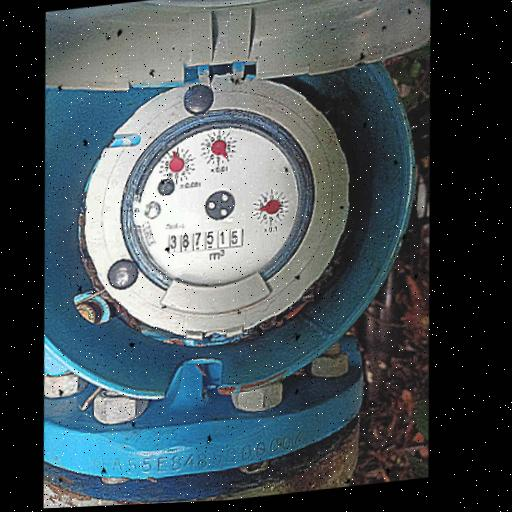1: (217, 230, 231, 249)
3: (168, 235, 182, 253)
5: (229, 228, 243, 247), (204, 231, 218, 249)
7: (193, 233, 205, 251)
8: (180, 233, 194, 252)
border_water_meter_number: (167, 226, 245, 254)
